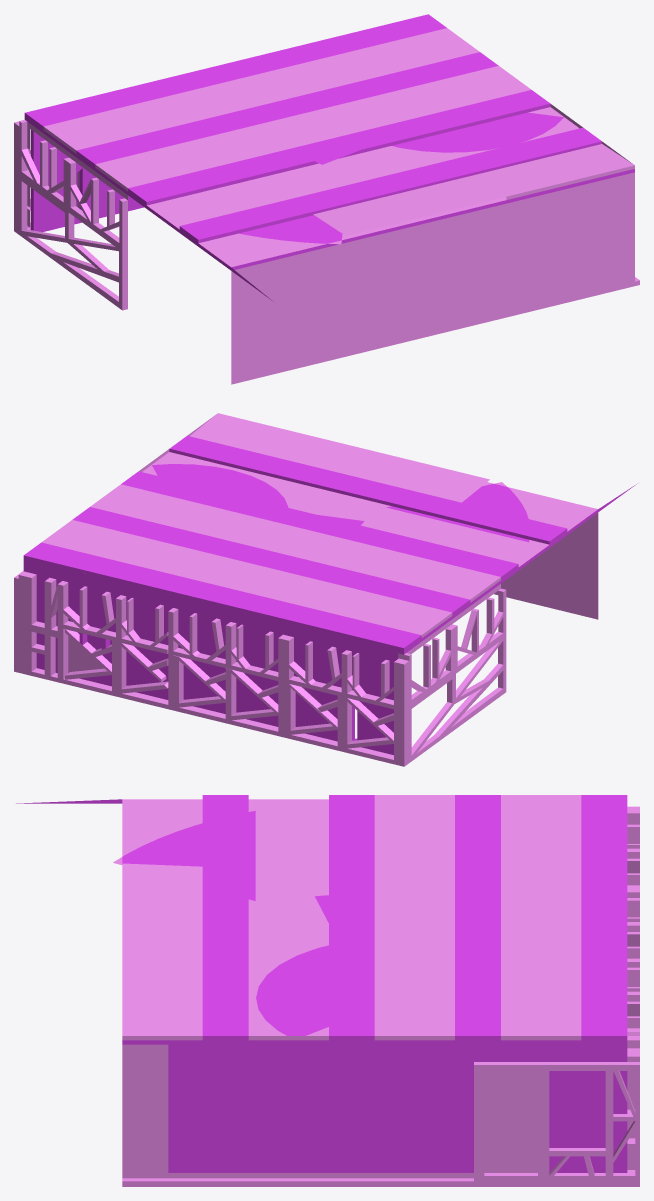
File: BoardStart.fbx
The picture shows the model from 3 angles, top to bottom: view 1: azimuth 30°, elevation 25°; view 2: azimuth 150°, elevation 25°; view 3: azimuth 270°, elevation 25°; orthographic projection. The views are drawn at different scales.
Parts seen in each view (by area): view 1: Model; view 2: Model; view 3: Model.
Boxes of the visible parts, box(x1,y1,x2,y2) form: Model: box(14, 14, 639, 384); Model: box(14, 413, 637, 766); Model: box(16, 795, 639, 1186).
Size of the model in its own units: 476 by 133 by 509.
